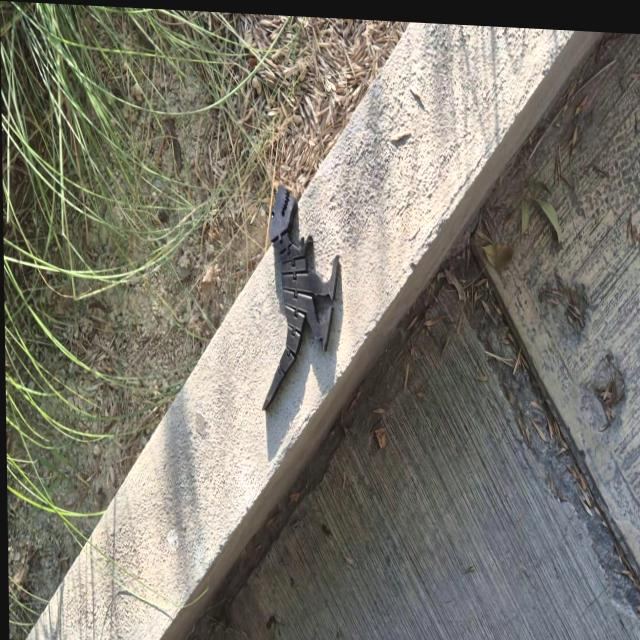dino: (257, 182, 342, 416)
